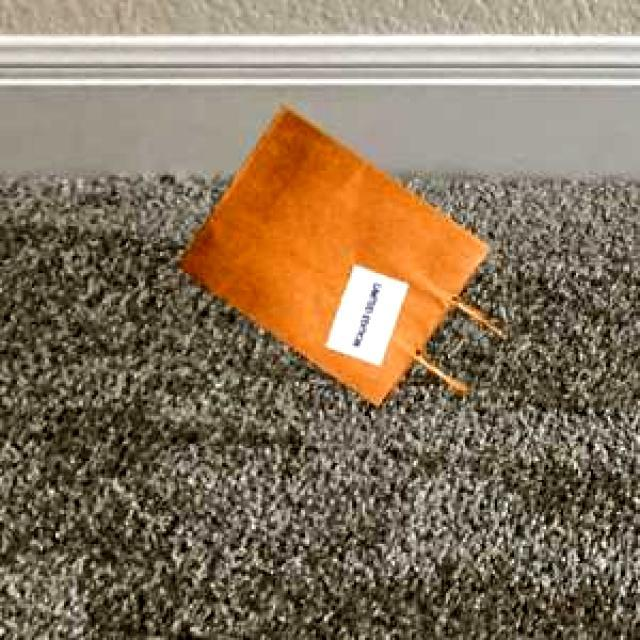Paper_Bag: (178, 104, 503, 402)
